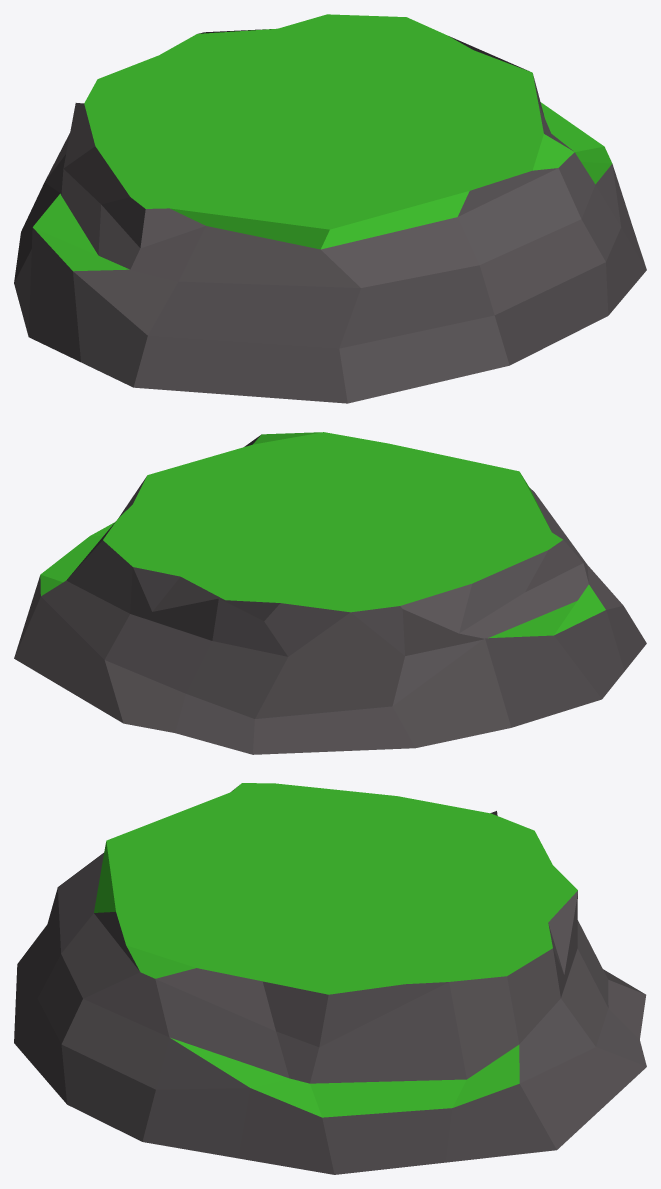
Rendered from platform2.fbx.
3 views of the same model, one above another, from view 1: azimuth 30°, elevation 25°; view 2: azimuth 150°, elevation 25°; view 3: azimuth 270°, elevation 25° (orthographic). The views are drawn at different scales.
Visible parts, largest first — view 1: Circle; view 2: Circle; view 3: Circle.
Boxes of the visible parts, x1,y1,x2,y2 form: Circle: (14,14,646,403); Circle: (14,432,646,754); Circle: (14,783,646,1174).
Bounding box in the file's own units: 3662 × 789 × 3318.
